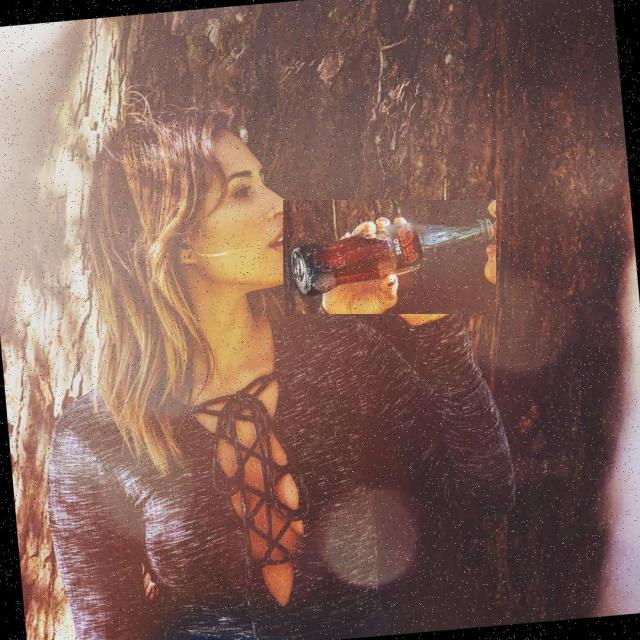coca-cola: (283, 200, 496, 314)
